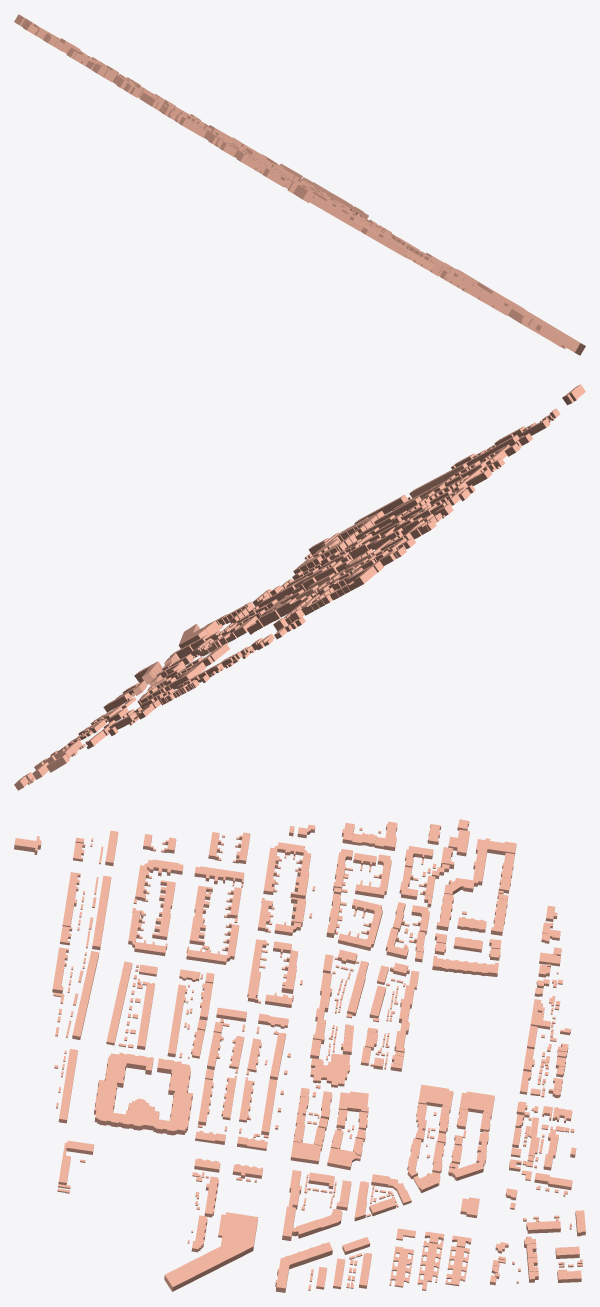
3 views of the same model, one above another, from view 1: azimuth 30°, elevation 25°; view 2: azimuth 150°, elevation 25°; view 3: azimuth 270°, elevation 25° (orthographic). The views are drawn at different scales.
Size of the model in its own units: 507 by 383 by 666.
